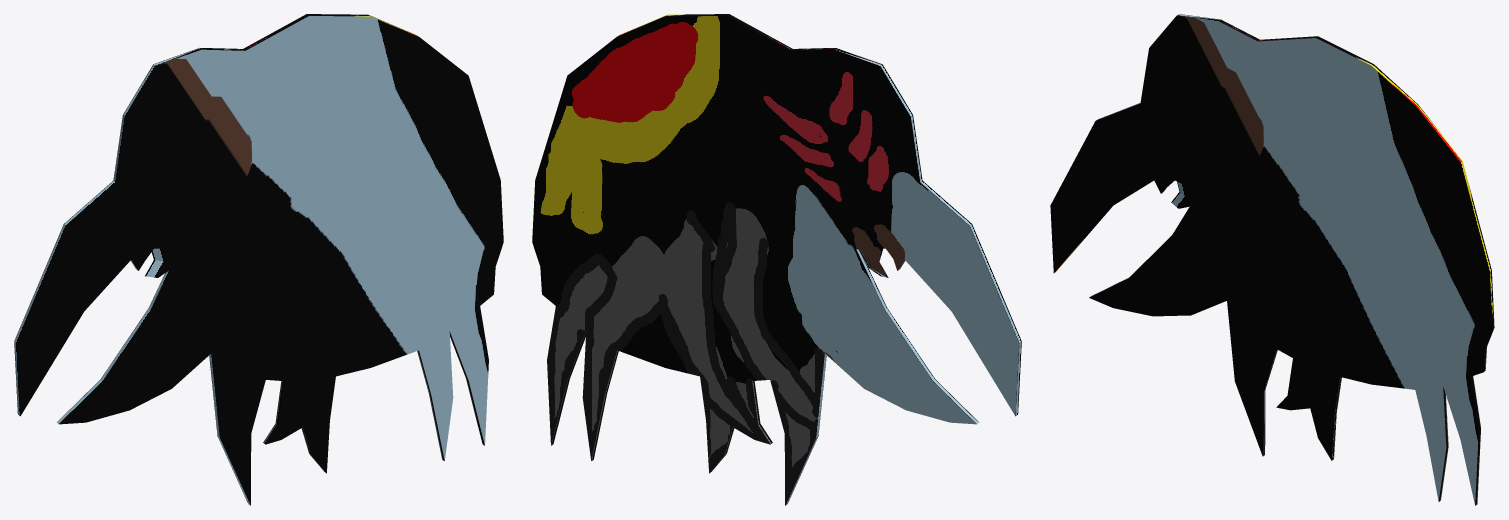
The model's file is goliath.gltf.
3 renders of one model, left to right at view 1: azimuth 30°, elevation 25°; view 2: azimuth 150°, elevation 25°; view 3: azimuth 330°, elevation 25°, orthographic. The views are drawn at different scales.
Parts seen in each view (by area): view 1: Cube; view 2: Cube; view 3: Cube.
Boxes of the visible parts, x1=… form: Cube: x1=14, y1=14, x2=503, y2=505; Cube: x1=532, y1=14, x2=1021, y2=505; Cube: x1=1050, y1=14, x2=1494, y2=505.
Size of the model in its own units: 4.53 by 4.25 by 0.0415.
1 material, 1 textured.
